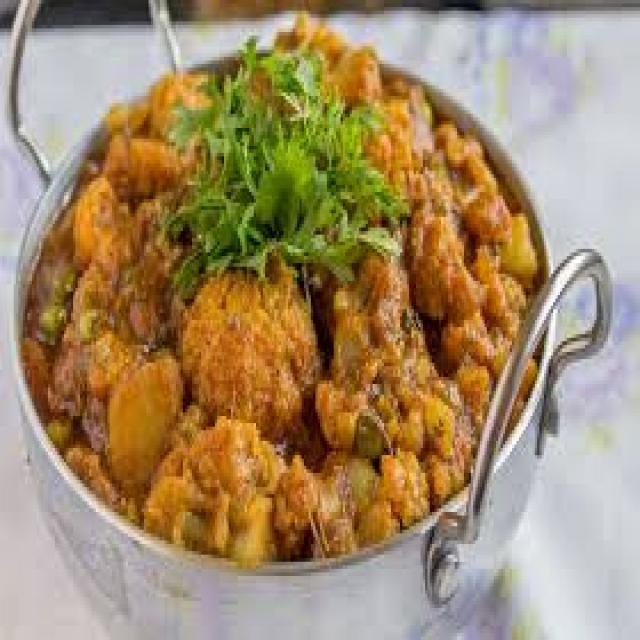Aloo Gobi: (77, 46, 474, 550)
